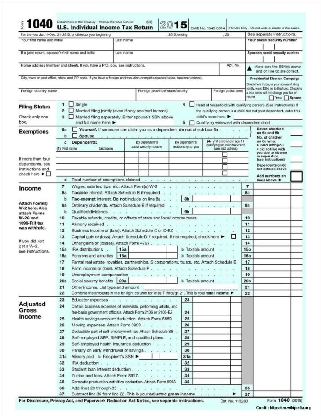checkbox: (268, 95, 275, 101), (283, 95, 290, 101), (189, 101, 196, 107), (189, 120, 196, 126), (67, 101, 74, 107), (68, 107, 75, 113), (67, 113, 74, 119), (72, 126, 79, 132), (72, 133, 79, 139), (230, 233, 237, 239), (222, 151, 229, 157), (222, 157, 229, 163), (222, 163, 229, 169), (222, 170, 229, 176)
textbox: (252, 294, 293, 393), (16, 74, 247, 89), (15, 62, 221, 77), (112, 36, 247, 52), (112, 50, 247, 64), (15, 87, 137, 102), (290, 294, 307, 392), (17, 37, 115, 52), (17, 49, 116, 63), (135, 87, 214, 102), (245, 37, 304, 52), (245, 50, 304, 64), (191, 300, 232, 317), (252, 194, 293, 210), (252, 206, 293, 222), (55, 162, 127, 171), (56, 150, 127, 159), (55, 168, 126, 177), (210, 87, 248, 102), (252, 231, 292, 242), (252, 281, 292, 292), (123, 149, 171, 158), (123, 156, 171, 165), (124, 162, 171, 171), (191, 193, 232, 203), (191, 206, 232, 216), (127, 243, 168, 253), (127, 250, 168, 260), (127, 275, 168, 285), (251, 388, 292, 398), (252, 181, 292, 191), (252, 187, 292, 197), (253, 219, 293, 229), (252, 225, 292, 235), (253, 237, 293, 247), (253, 244, 293, 254), (253, 250, 293, 260), (252, 256, 292, 266), (252, 263, 292, 273), (252, 269, 292, 279), (253, 275, 293, 285), (252, 288, 292, 298), (123, 169, 171, 177), (191, 320, 233, 329), (191, 339, 233, 348), (191, 351, 233, 360), (191, 295, 232, 304), (191, 313, 232, 322), (191, 327, 232, 336), (190, 332, 231, 341), (192, 345, 233, 354), (191, 358, 232, 367), (191, 364, 232, 373), (191, 371, 232, 380), (191, 377, 232, 386), (139, 352, 179, 361), (168, 169, 205, 177), (168, 163, 205, 171), (168, 156, 205, 164), (168, 150, 204, 158), (289, 194, 305, 210), (290, 206, 306, 222), (230, 300, 243, 316), (290, 170, 305, 182), (290, 170, 304, 182), (165, 249, 180, 260), (289, 187, 305, 197), (290, 231, 306, 241), (290, 282, 306, 292), (290, 275, 306, 285), (166, 274, 180, 285), (289, 270, 306, 279), (289, 289, 306, 298), (289, 181, 304, 191), (290, 219, 305, 229), (291, 225, 306, 235), (290, 238, 306, 247), (290, 264, 306, 273), (289, 389, 305, 398), (229, 192, 243, 202), (229, 205, 243, 215), (165, 243, 179, 253), (290, 244, 305, 253), (290, 251, 305, 260), (290, 257, 305, 266), (230, 326, 243, 336), (230, 332, 243, 342), (230, 294, 243, 303), (230, 314, 243, 323), (230, 320, 243, 329), (230, 339, 243, 348), (230, 345, 243, 354), (230, 359, 244, 367), (229, 365, 243, 373), (229, 371, 243, 379), (230, 377, 244, 385), (230, 352, 242, 360)
textline: (139, 284, 240, 291), (232, 112, 304, 121), (115, 118, 174, 126), (288, 155, 304, 164), (289, 128, 304, 137), (289, 139, 304, 148), (289, 163, 304, 172)
